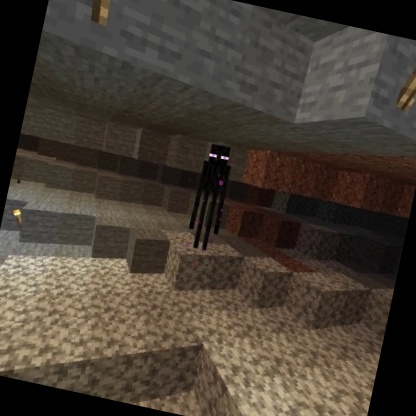enderman: (181, 139, 239, 255)
